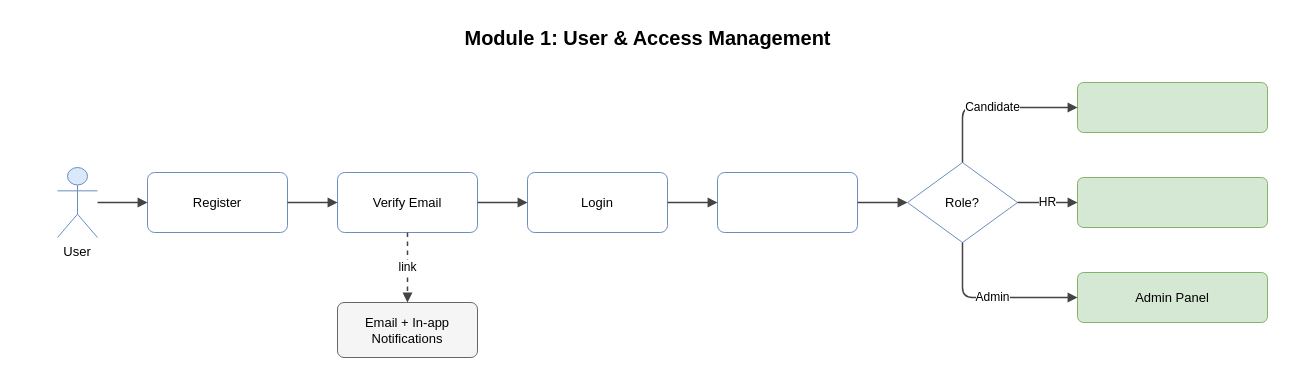
Image size: 1294x375. Some labels were removed from this diagram. Each missing label, with the centre of its shape:
Candidate Dashboard: the point at 1172,107
Consent (candidates): the point at 787,202
HR Dashboard: the point at 1172,202
